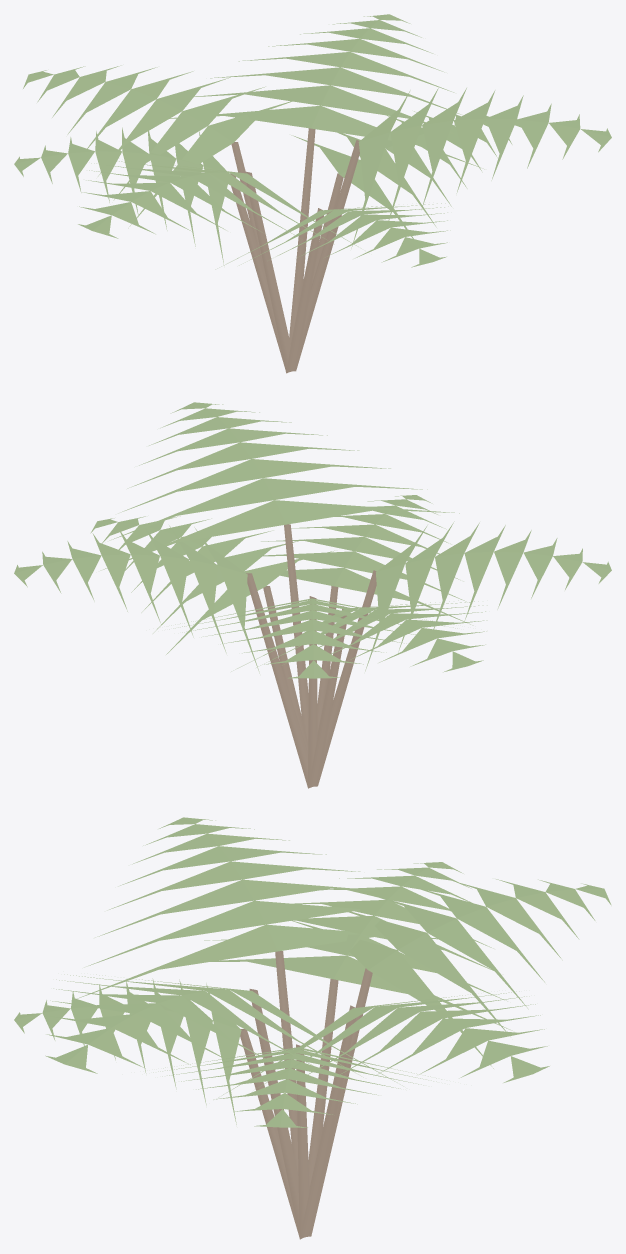
File: Blender_Bracken_2.glb
The picture shows the model from 3 angles, top to bottom: view 1: azimuth 30°, elevation 25°; view 2: azimuth 150°, elevation 25°; view 3: azimuth 270°, elevation 25°; orthographic projection. The views are drawn at different scales.
Parts seen in each view (by area): view 1: Blender_Bracken_2; view 2: Blender_Bracken_2; view 3: Blender_Bracken_2.
Part boxes in pixels (x1,y1,x2,y2): Blender_Bracken_2: (14, 14, 611, 373); Blender_Bracken_2: (14, 402, 611, 788); Blender_Bracken_2: (14, 817, 611, 1239).
Size of the model in its own units: 0.9783 by 0.5207 by 0.9073.
